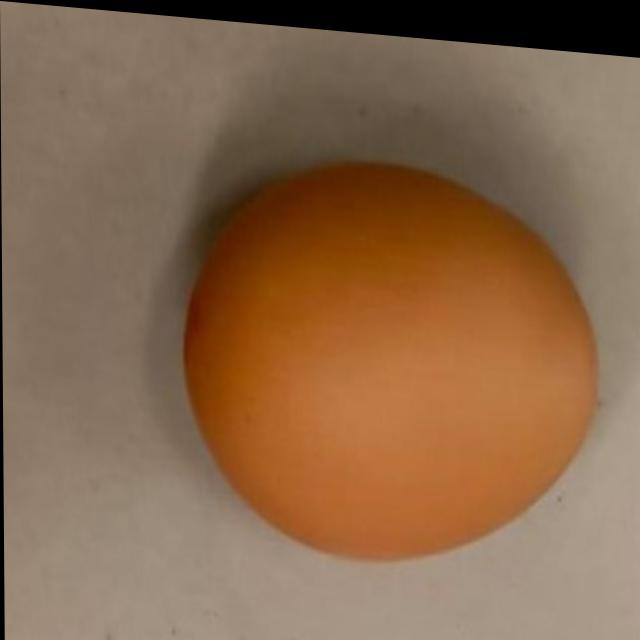fresh: (184, 141, 606, 569)
